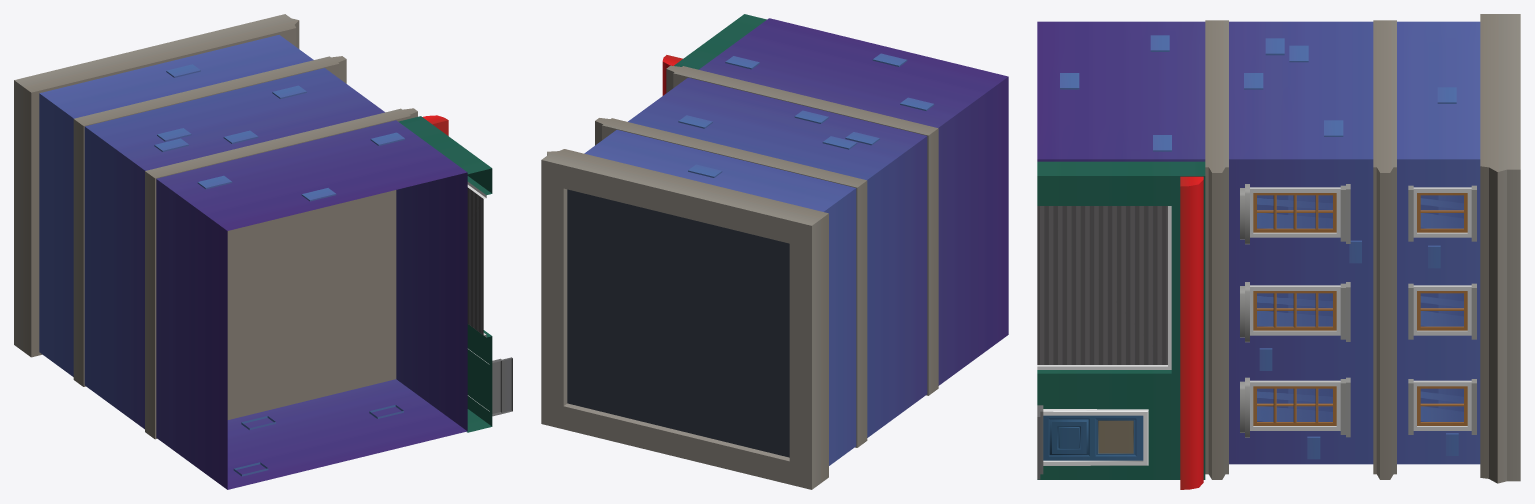
Rendered from Building_19_2_H.fbx.
3 views of the same model, side by side, from view 1: azimuth 30°, elevation 25°; view 2: azimuth 150°, elevation 25°; view 3: azimuth 270°, elevation 25° (orthographic). The views are drawn at different scales.
Parts seen in each view (by area): view 1: Building_19_2_H; view 2: Building_19_2_H; view 3: Building_19_2_H.
Part boxes in pixels (x1,y1,x2,y2): Building_19_2_H: [14, 14, 512, 489]; Building_19_2_H: [541, 14, 1008, 489]; Building_19_2_H: [1037, 14, 1520, 489].
Bounding box in the file's own units: 774 × 667 × 938.
